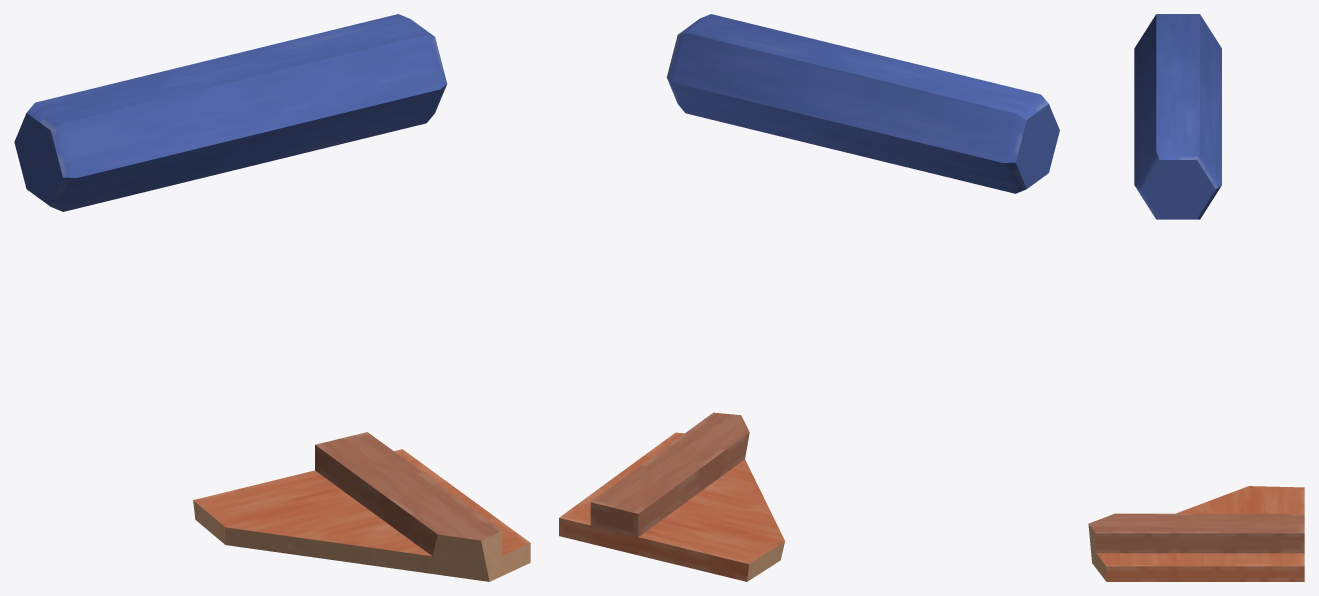
Rendered from bolts_s03.fbx.
3 renders of one model, left to right at view 1: azimuth 30°, elevation 25°; view 2: azimuth 150°, elevation 25°; view 3: azimuth 270°, elevation 25°, orthographic. The views are drawn at different scales.
Visible parts, largest first — view 1: bolts_s03; view 2: bolts_s03; view 3: bolts_s03.
Part boxes in pixels (<box>): bolts_s03: <box>14,14,530,581</box>; bolts_s03: <box>559,14,1059,581</box>; bolts_s03: <box>1088,14,1304,581</box>.
Bounding box in the file's own units: 5.1 × 5.71 × 2.77.
